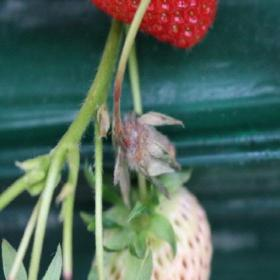Gray Mold: (111, 107, 185, 207)
